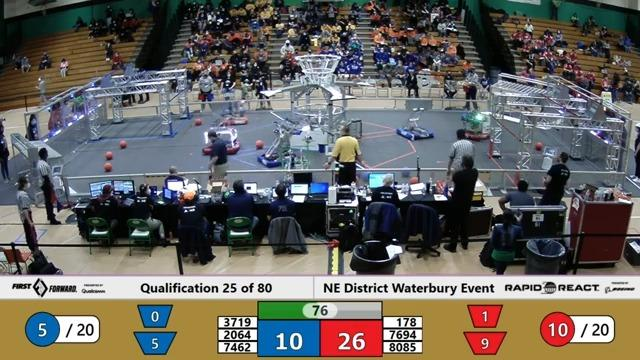robot: (256, 117, 295, 169), (272, 146, 316, 192), (389, 107, 438, 148), (191, 124, 247, 159), (450, 104, 497, 144), (211, 91, 252, 128)
